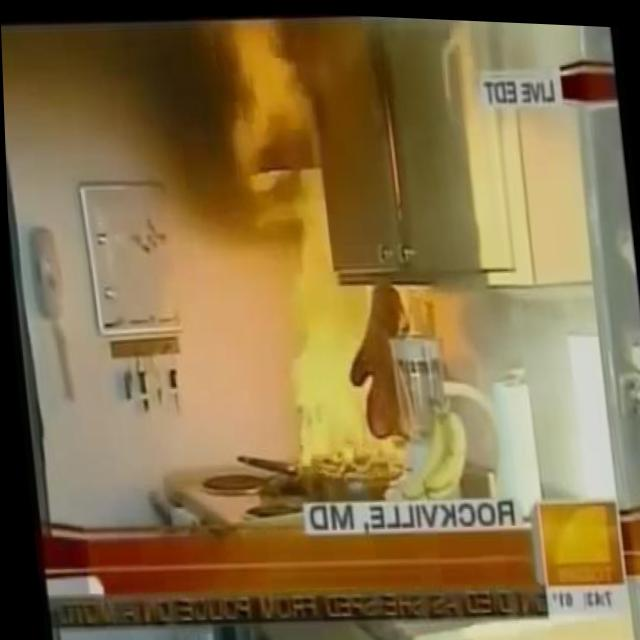fire: (217, 8, 387, 479)
